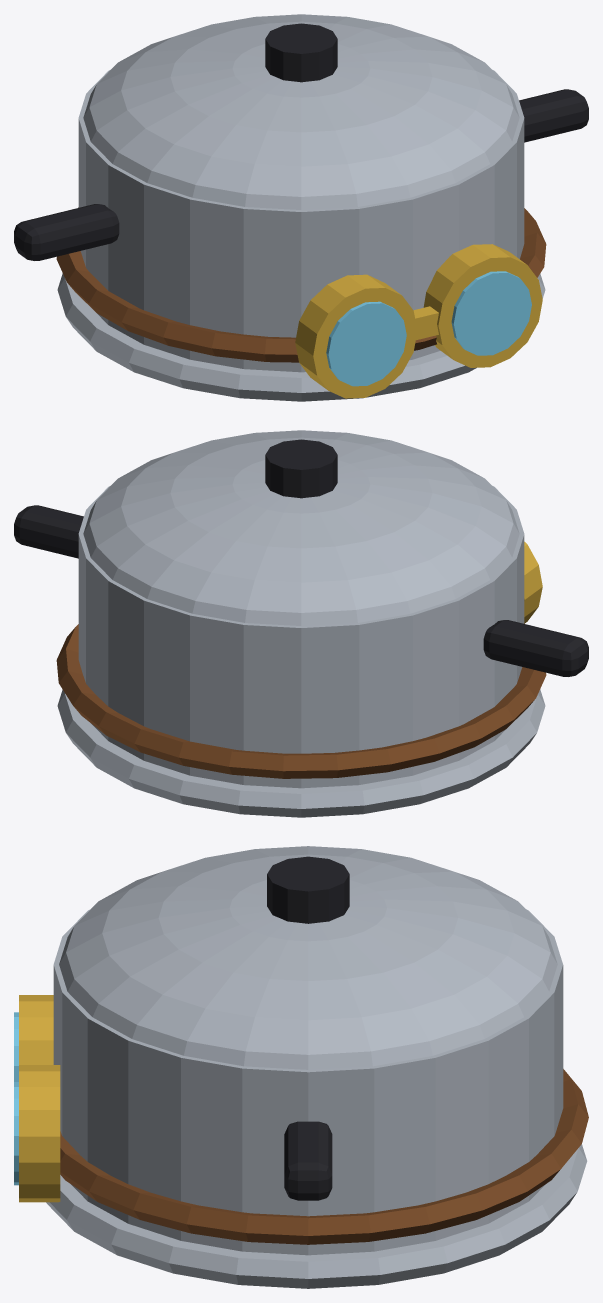
The model's file is helmet_pot.fbx.
The picture shows the model from 3 angles, top to bottom: view 1: azimuth 30°, elevation 25°; view 2: azimuth 150°, elevation 25°; view 3: azimuth 270°, elevation 25°; orthographic projection. The views are drawn at different scales.
Visible parts, largest first — view 1: helmet_pot; view 2: helmet_pot; view 3: helmet_pot.
Part boxes in pixels (left/top/right/bottom): helmet_pot: left=14, top=14, right=588, bottom=401; helmet_pot: left=14, top=430, right=588, bottom=817; helmet_pot: left=14, top=846, right=588, bottom=1288.
Bounding box in the file's own units: 216 × 96.33 × 167.
1 material, 1 textured.
